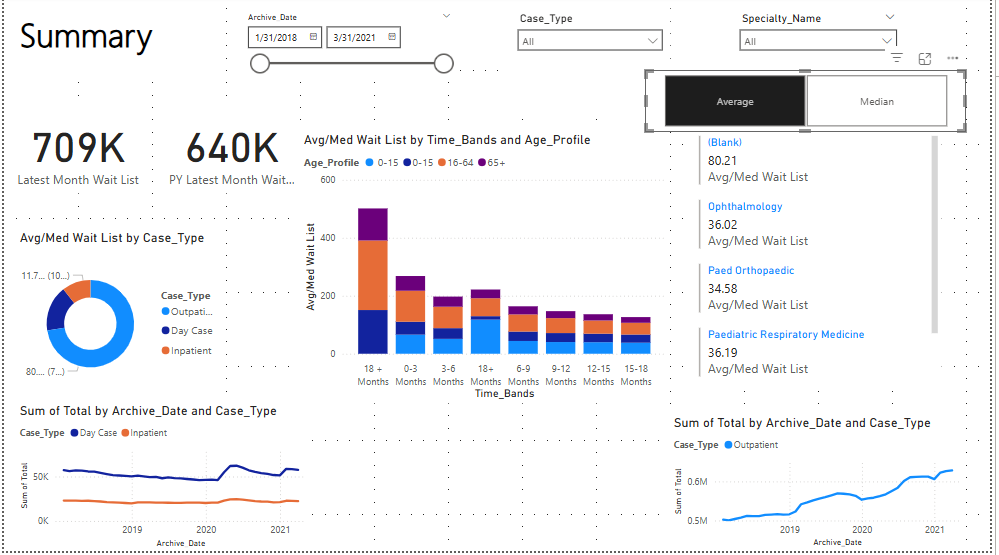

What the dashboard file says about the page in this screenshot:
{"tool":"powerbi","page":{"name":"Summary","canvas":[1280,720],"ordinal":0},"visuals":[{"type":"card","fields":{"Values":["All Data.Latest Month Wait List"]},"box":[0,144,192,112],"z":0},{"type":"card","fields":{"Values":["All Data.PY Latest Month Wait List"]},"box":[208,144,176,112],"z":1000},{"type":"slicer","fields":{"Values":["Calculation Method.Calc Method"]},"box":[832,96,416,80],"z":2000},{"type":"donutChart","fields":{"Category":["All Data.Case_Type"],"Y":["All Data.Avg/Med Wait List"]},"box":[16,304,272,224],"z":3000},{"type":"columnChart","fields":{"Y":["All Data.Avg/Med Wait List"],"Category":["All Data.Time_Bands"],"Series":["All Data.Age_Profile"]},"box":[384,176,480,352],"z":4000},{"type":"multiRowCard","fields":{"Values":["All Data.Specialty_Name","All Data.Avg/Med Wait List"]},"box":[896,176,320,336],"z":5000},{"type":"lineChart","fields":{"Category":["All Data.Archive_Date"],"Y":["Sum(All Data.Total)"],"Series":["All Data.Case_Type"]},"box":[16,528,384,192],"z":6000},{"type":"lineChart","fields":{"Category":["All Data.Archive_Date"],"Y":["Sum(All Data.Total)"],"Series":["All Data.Case_Type"]},"box":[864,544,384,176],"z":7000},{"type":"slicer","fields":{"Values":["All Data.Archive_Date"]},"box":[304,16,288,96],"z":8000},{"type":"slicer","fields":{"Values":["All Data.Case_Type"]},"box":[656,16,208,144],"z":9000},{"type":"slicer","fields":{"Values":["All Data.Specialty_Name"]},"box":[944,16,224,160],"z":10000},{"type":"textbox","box":[16,16,272,96],"z":11000}]}

Visuals, with their boxes in screenshot pixels (x1, y1, x2, y2), scaled from the page's 1280x720 canvas onto the 999x555 screenshot:
card - All Data.Latest Month Wait List: l=0, t=111, r=150, b=197
card - All Data.PY Latest Month Wait List: l=162, t=111, r=300, b=197
slicer - Calculation Method.Calc Method: l=649, t=74, r=974, b=136
donutChart - All Data.Case_Type x All Data.Avg/Med Wait List: l=12, t=234, r=225, b=407
columnChart - All Data.Avg/Med Wait List x All Data.Time_Bands: l=300, t=136, r=674, b=407
multiRowCard - All Data.Specialty_Name x All Data.Avg/Med Wait List: l=699, t=136, r=949, b=395
lineChart - All Data.Archive_Date x Sum(All Data.Total): l=12, t=407, r=312, b=554
lineChart - All Data.Archive_Date x Sum(All Data.Total): l=674, t=419, r=974, b=554
slicer - All Data.Archive_Date: l=237, t=12, r=462, b=86
slicer - All Data.Case_Type: l=512, t=12, r=674, b=123
slicer - All Data.Specialty_Name: l=737, t=12, r=912, b=136
textbox: l=12, t=12, r=225, b=86
